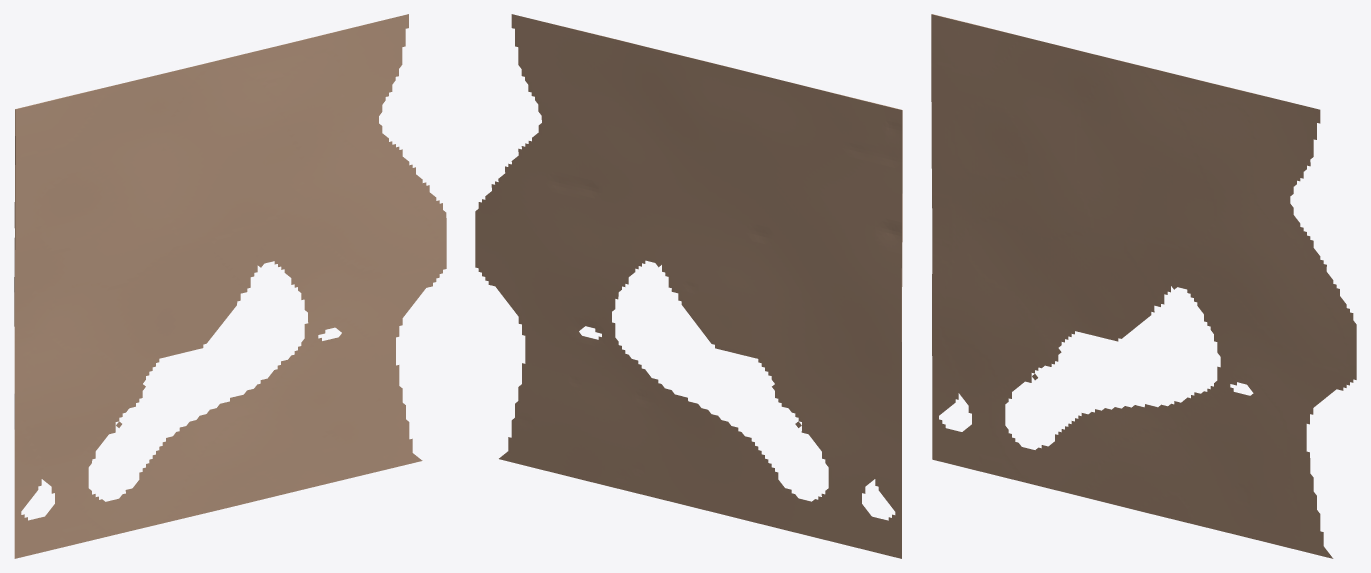
Rendered from L06_shell.glb.
The picture shows the model from 3 angles, left to right: view 1: azimuth 30°, elevation 25°; view 2: azimuth 150°, elevation 25°; view 3: azimuth 330°, elevation 25°; orthographic projection.
Visible parts, largest first — view 1: world; view 2: world; view 3: world.
Part boxes in pixels (box(x1,y1,x2,y2)): world: box(14, 14, 446, 558); world: box(475, 14, 902, 558); world: box(931, 14, 1356, 558).
Bounding box in the file's own units: 12800 × 12800 × 109.
